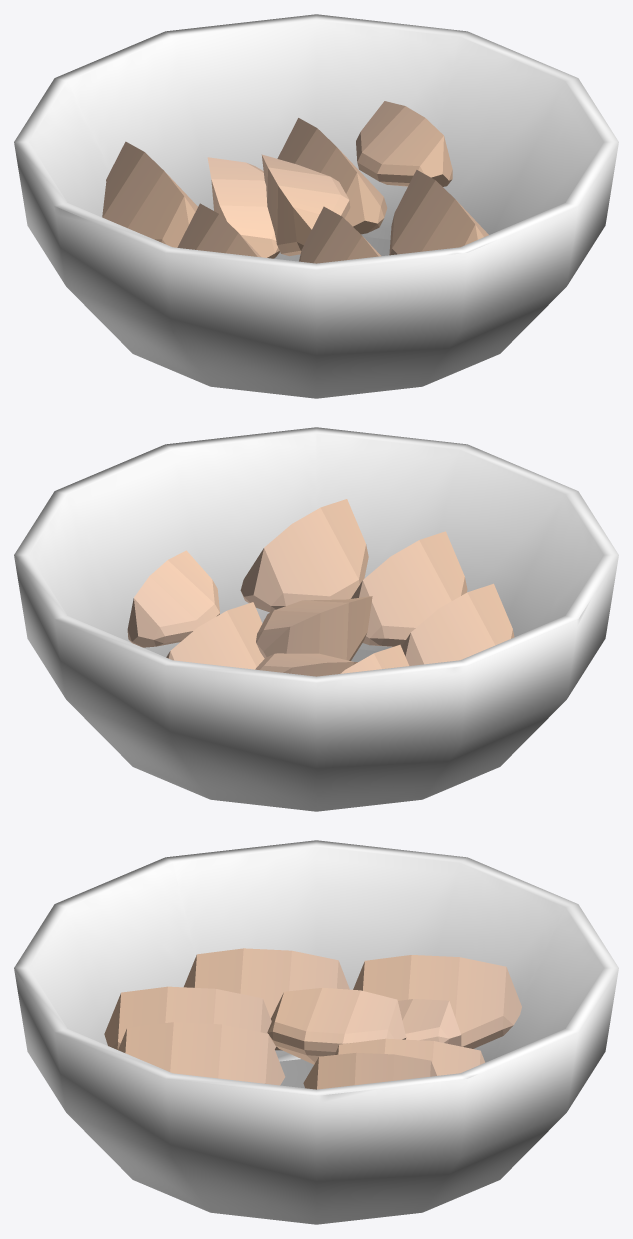
Rendered from gorlic.gltf.
3 views of the same model, one above another, from view 1: azimuth 30°, elevation 25°; view 2: azimuth 150°, elevation 25°; view 3: azimuth 270°, elevation 25° (orthographic).
Parts seen in each view (by area): view 1: kimchbowl, garlics; view 2: kimchbowl, garlics; view 3: kimchbowl, garlics.
Part boxes in pixels (bbox=[...]): kimchbowl: bbox=[14, 14, 618, 398]; garlics: bbox=[102, 101, 488, 263]; kimchbowl: bbox=[14, 427, 618, 811]; garlics: bbox=[127, 499, 514, 676]; kimchbowl: bbox=[14, 840, 618, 1224]; garlics: bbox=[104, 948, 521, 1089].
Size of the model in its own units: 0.2783 by 0.0848 by 0.2783.
2 materials, 2 textured.
